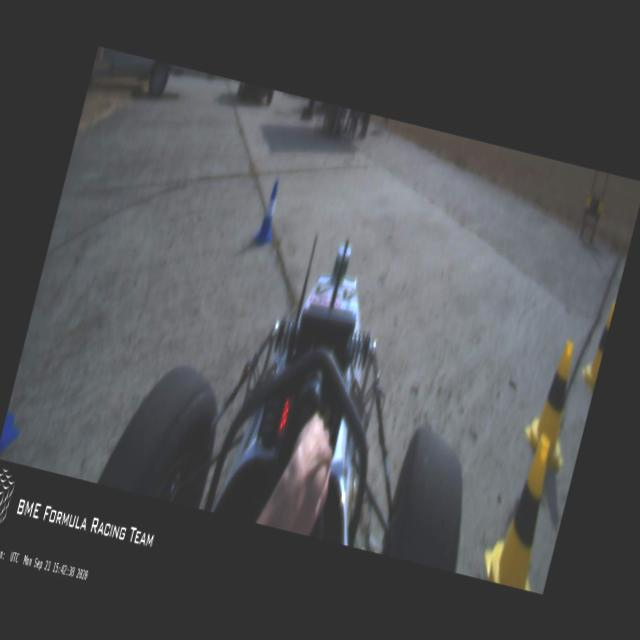blue_cone: (250, 176, 286, 250)
yellow_cone: (478, 429, 566, 590), (518, 334, 592, 467), (577, 297, 615, 392)
